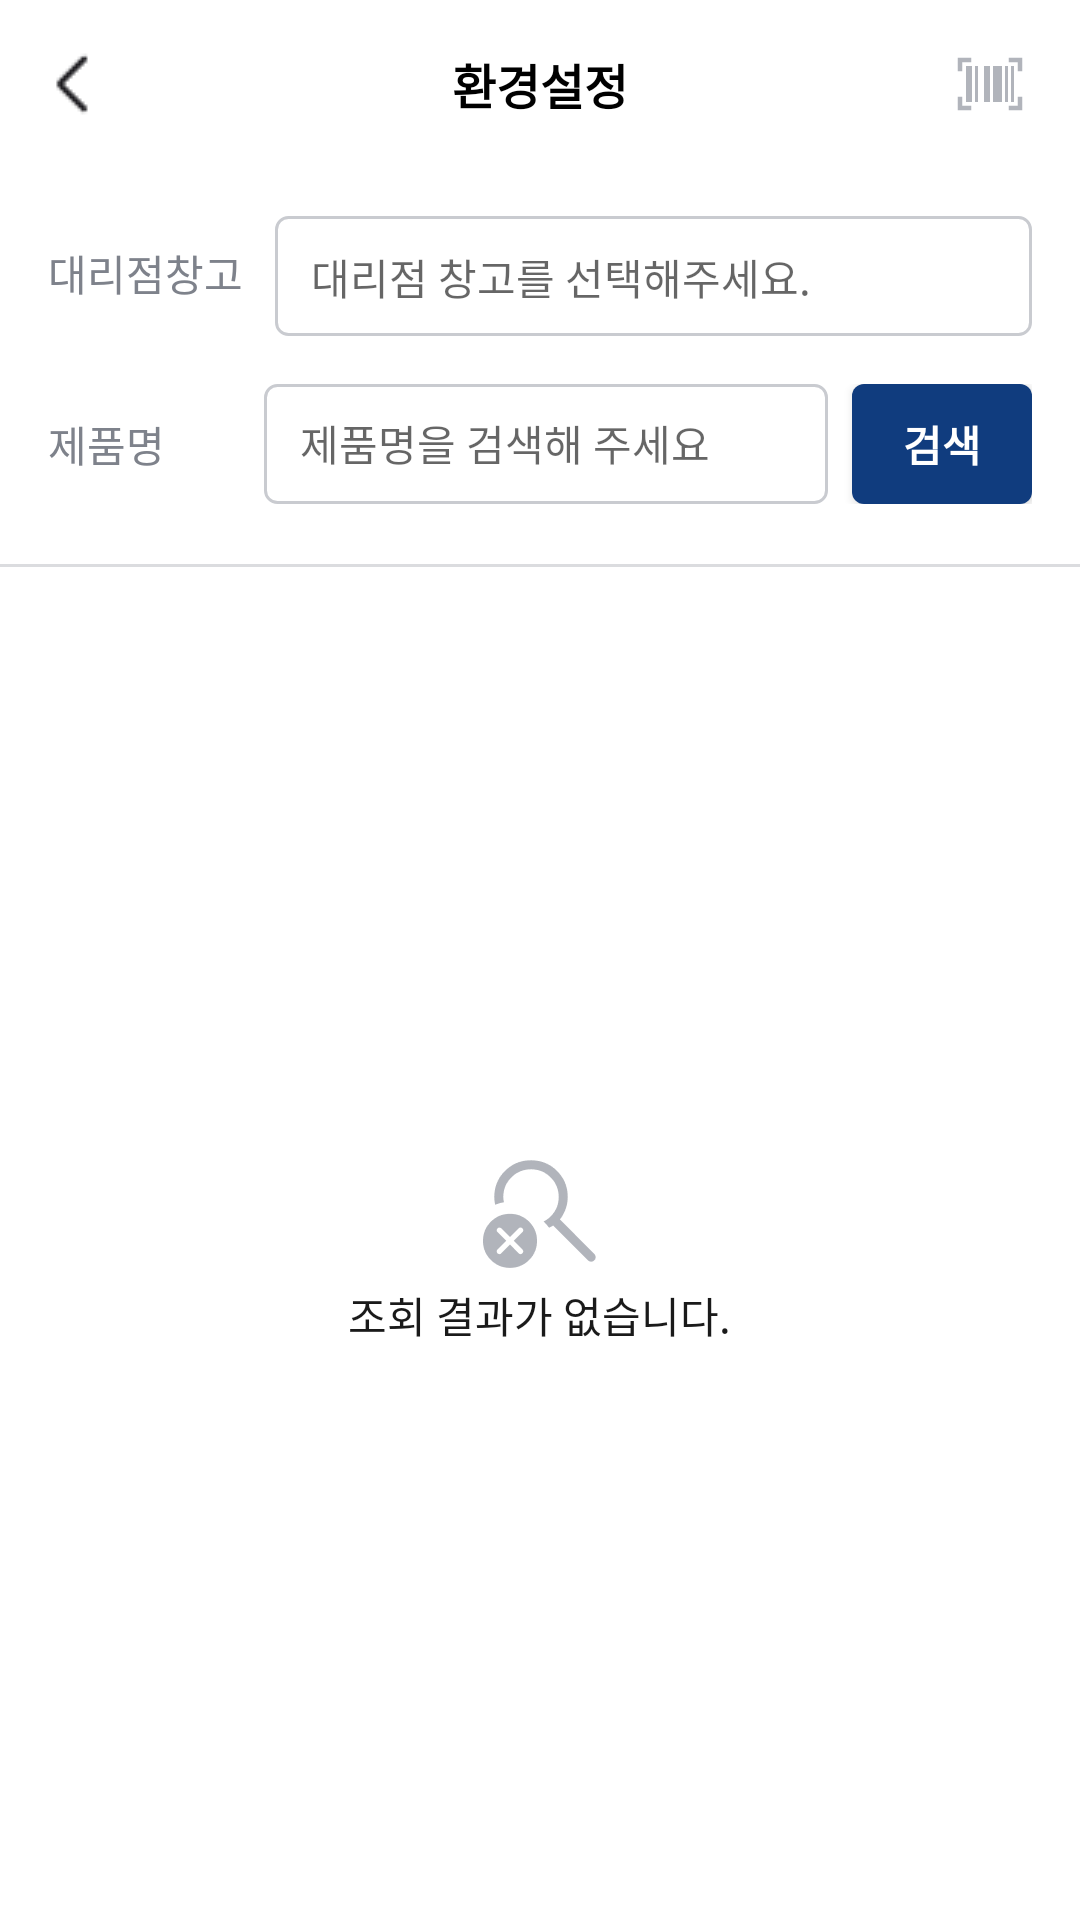

Where icons sit on this 1080×1920 app screen, as (x1=x1, y1=y1, x2=x2, y2=y2):
arrow back: (x1=56, y1=55, x2=88, y2=113)
scan: (x1=958, y1=58, x2=1022, y2=110)
